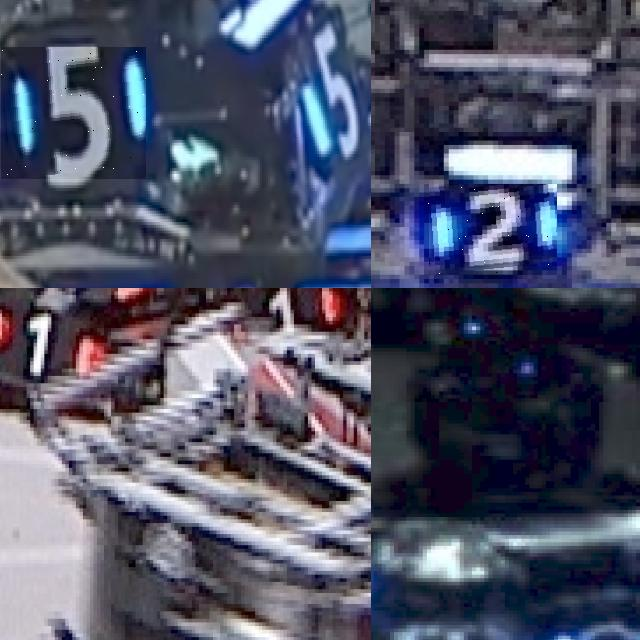B2: (424, 184, 557, 275)
B5: (1, 47, 146, 179)
